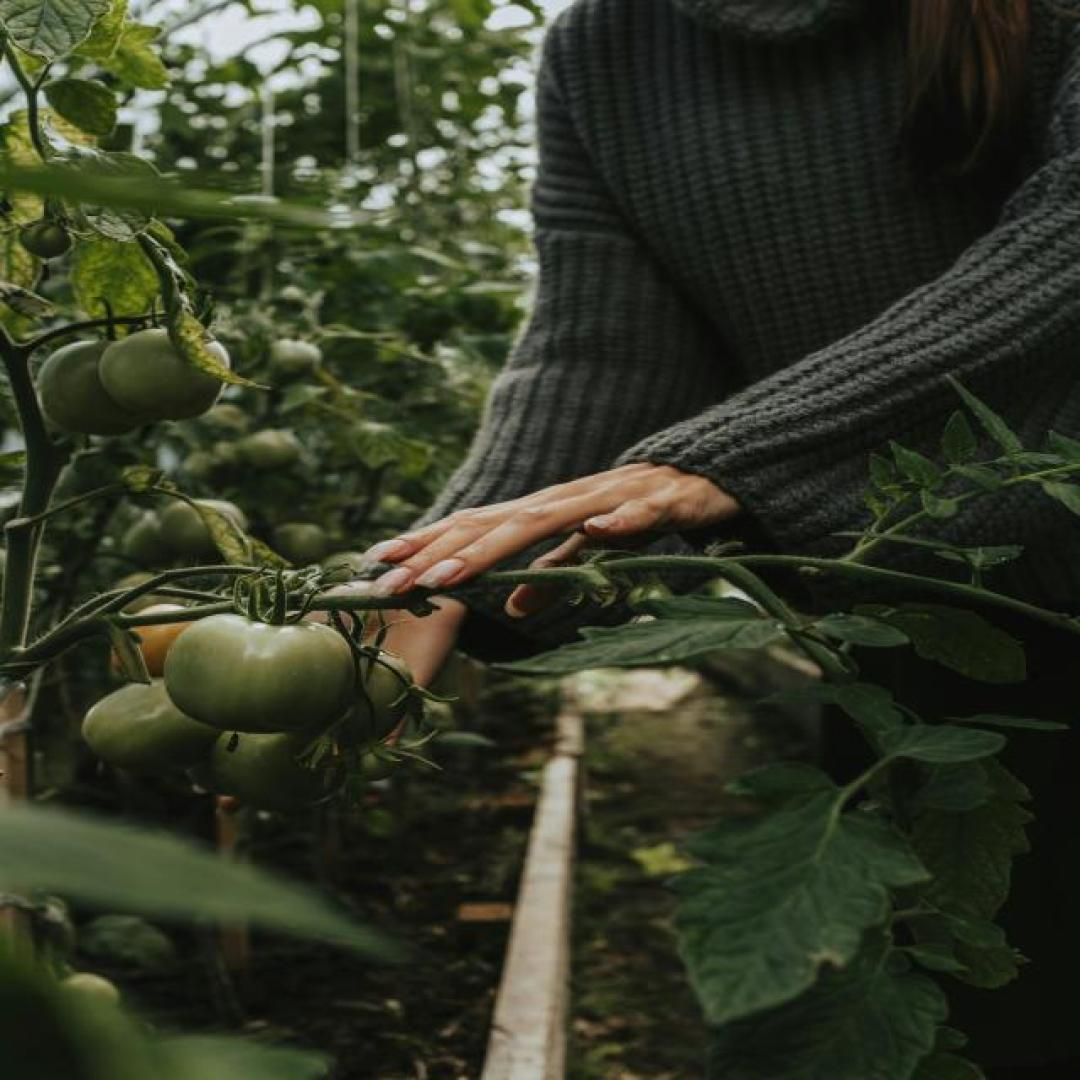mentah: (164, 612, 356, 736), (98, 328, 231, 418), (19, 218, 74, 260)
